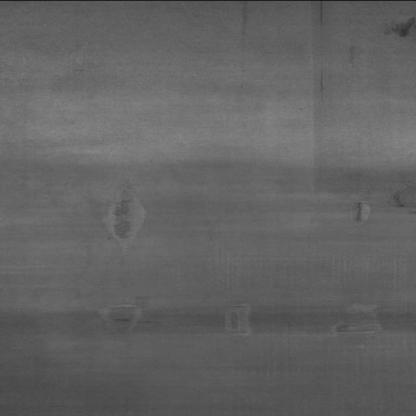rolled_pit: (325, 298, 393, 338), (98, 298, 152, 332), (339, 195, 384, 233), (221, 304, 257, 338)
